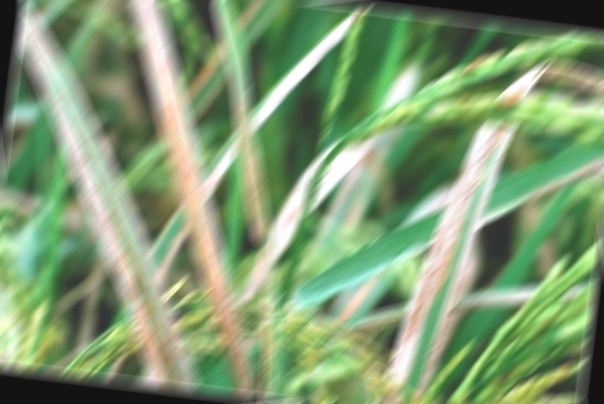Leaf_Blast: (45, 19, 275, 350), (403, 62, 528, 402)
